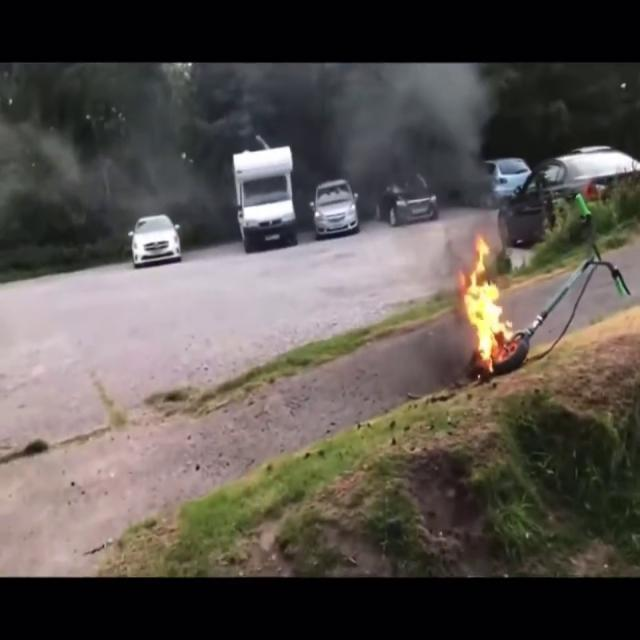Fire: (459, 232, 517, 369)
Smoke: (312, 65, 514, 249)
